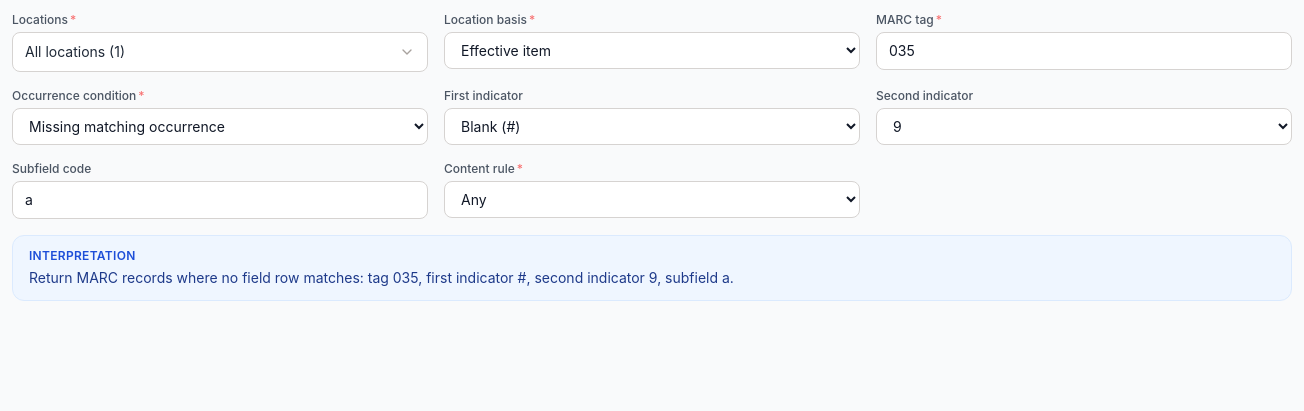
Test case: MarcFieldFinderParameters › shows text controls only for text-consuming content rules
The width and height of the screenshot is (1304, 411).
Select "Contains" in the dropdown labelled "Content rule*": {"x": 652, "y": 200} [444, 181, 860, 218]
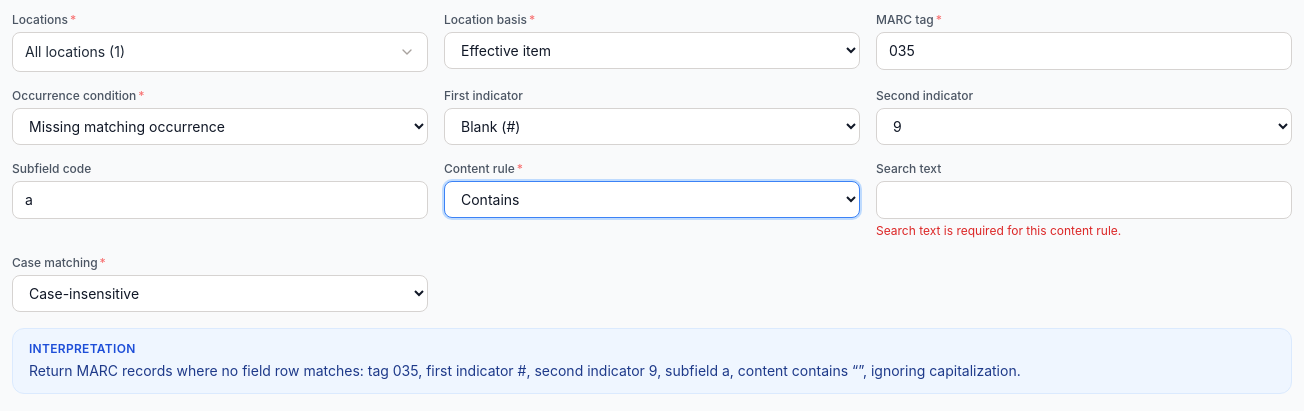
expect the field labelled "Search text" is shown: met, box [876, 181, 1292, 219]
expect the dropdown labelled "Case matching*" is shown: met, box [12, 275, 428, 312]
